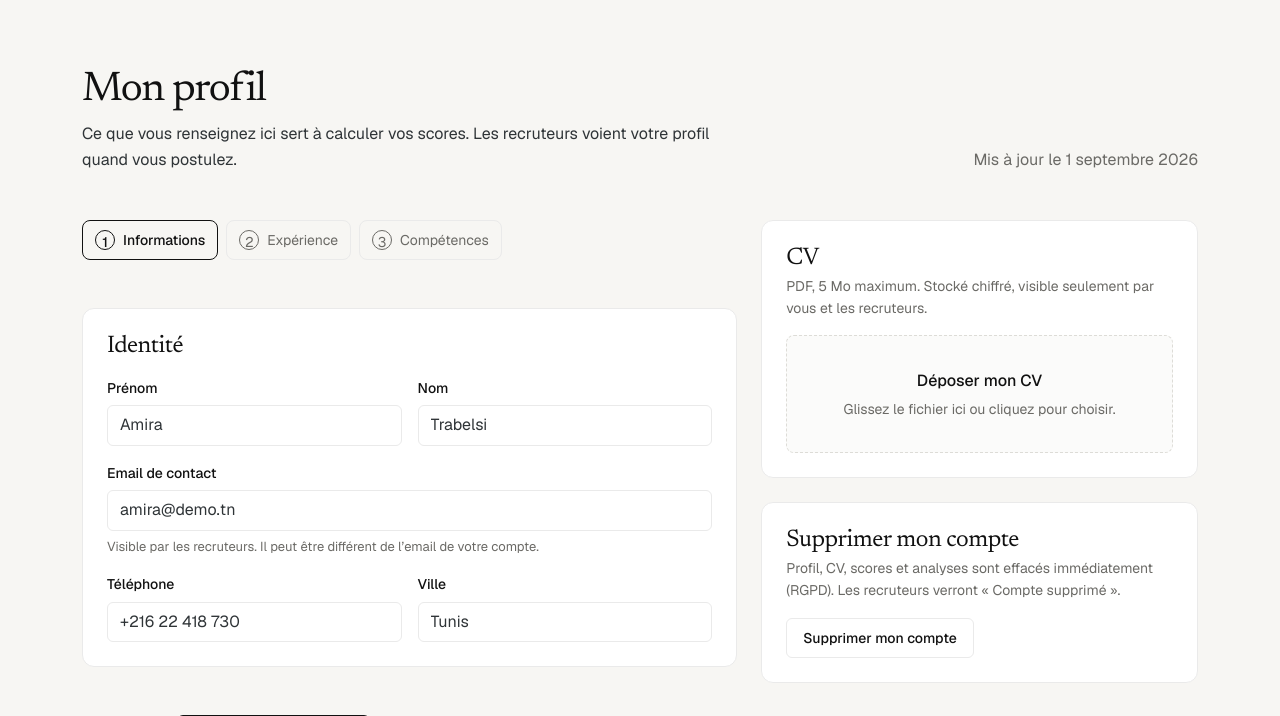
Test: profile creation and edition › pre-fills the form with the saved profile and confirms a save with a toast
Check: the field labelled "Prénom" holds "Amira", box [107, 406, 402, 446]
Check: the field labelled "Nom" holds "Trabelsi", box [418, 406, 712, 446]
In the field labelled "Ville": (565, 622) [418, 602, 712, 642], type "Sfax"
(page scrolled)
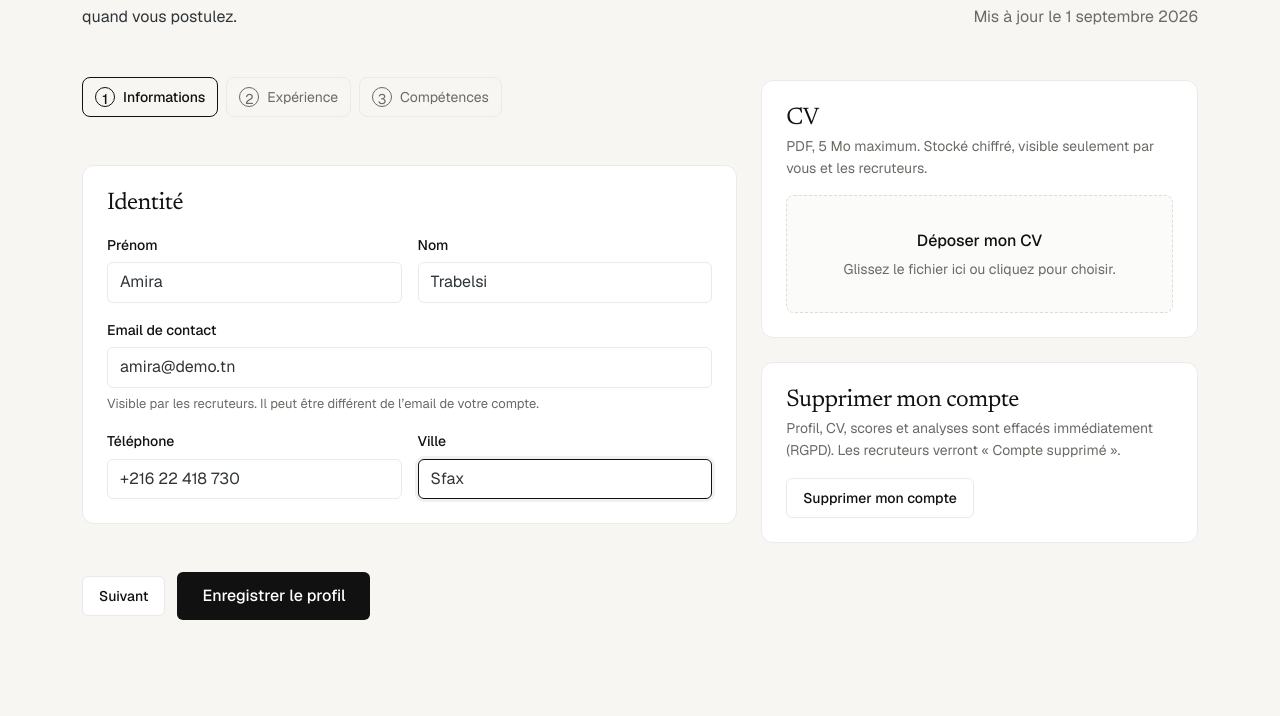
Click the button "Enregistrer le profil": click(274, 596) [178, 572, 370, 620]
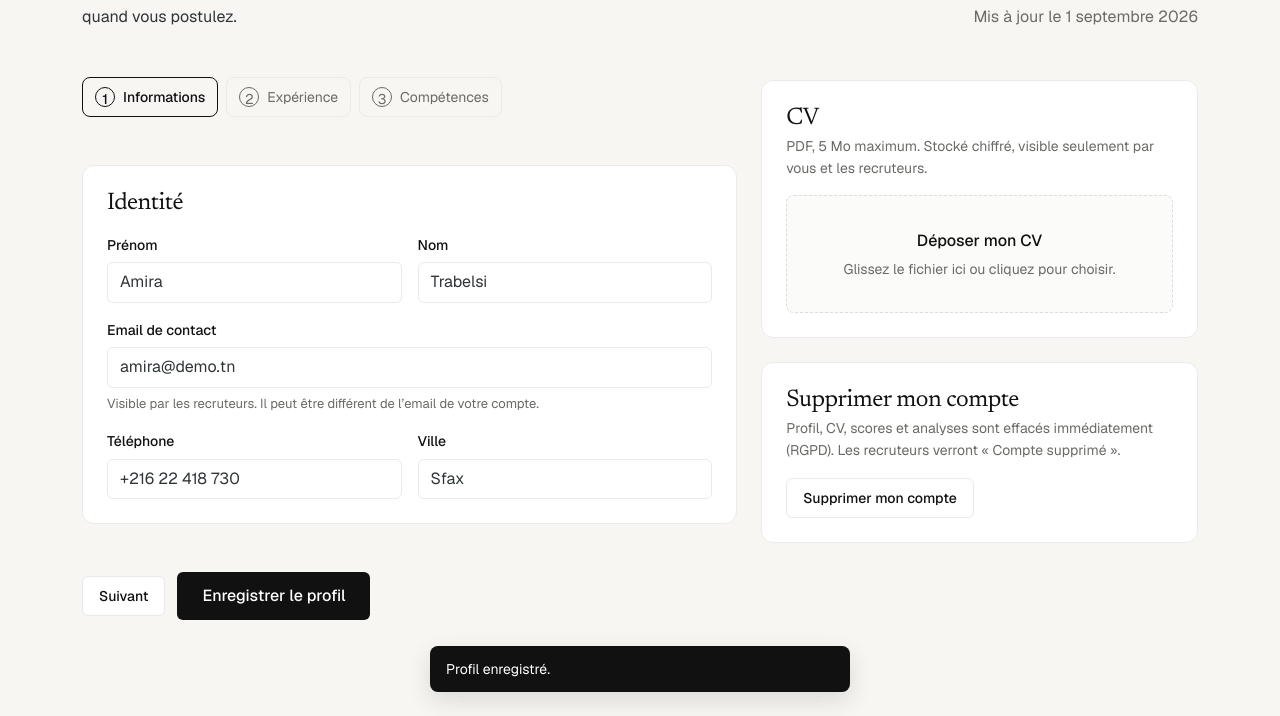
Check: the text "Profil enregistré." is shown, box [430, 646, 850, 692]
